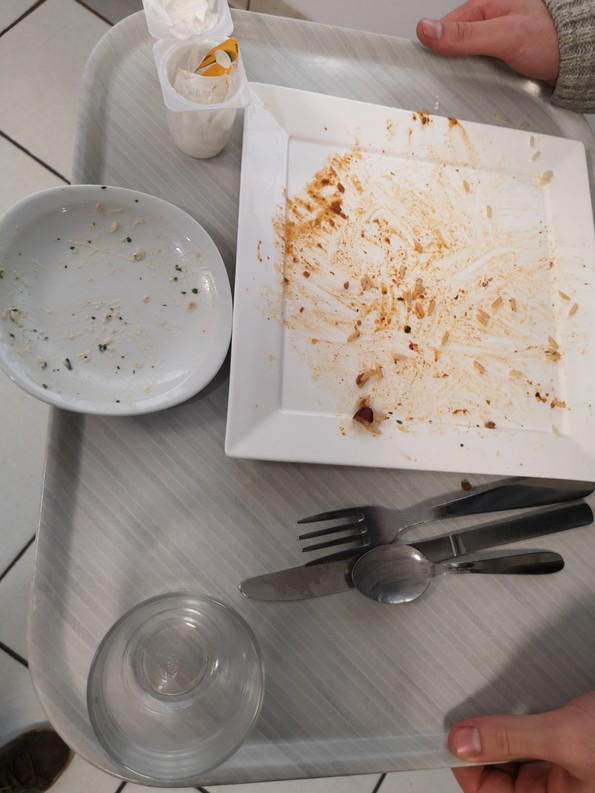cup: (75, 586, 277, 790)
cutlery: (240, 460, 595, 611)
trash: (135, 6, 252, 168)
